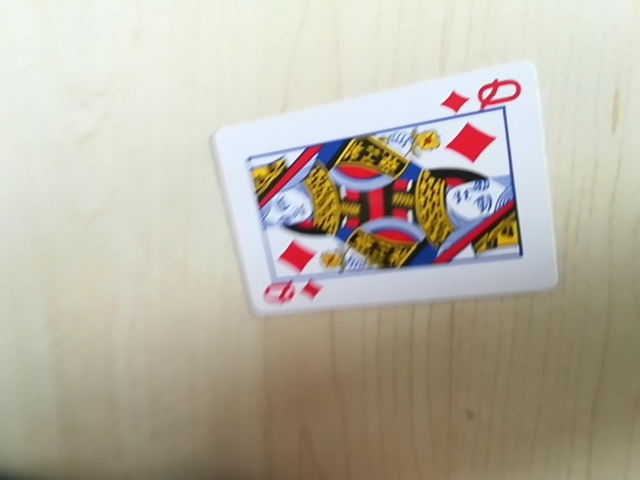fk q: (442, 72, 525, 118), (258, 275, 324, 315)
